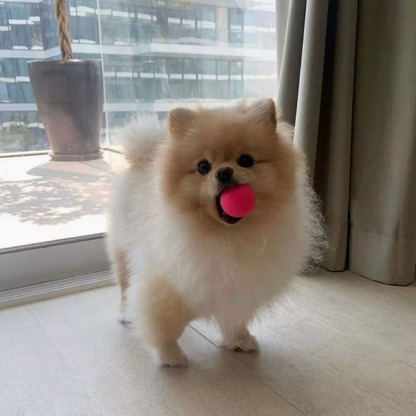Pomeranian: (101, 97, 331, 381)
